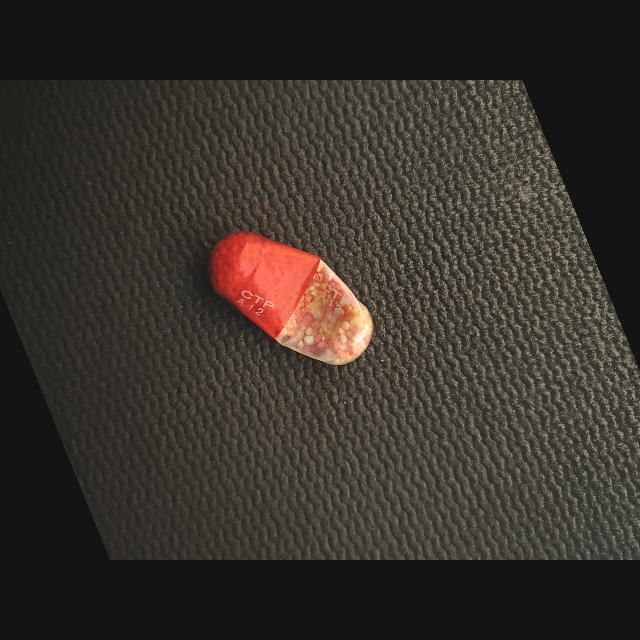Defective Capsule: (208, 231, 373, 365)
